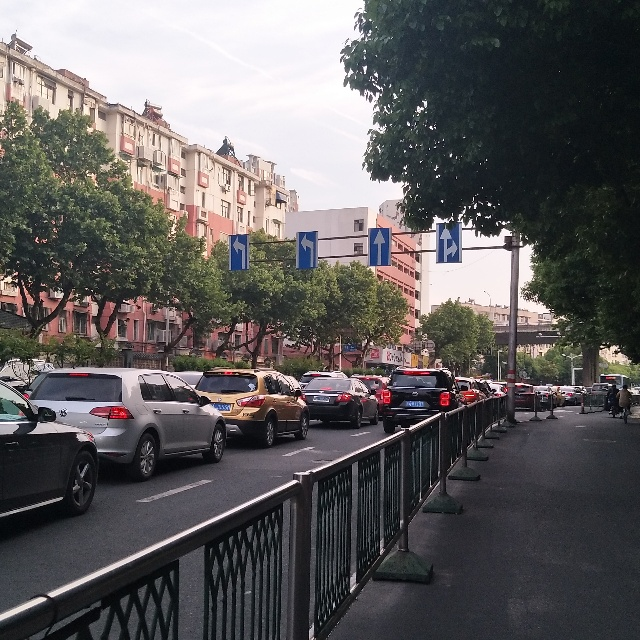left: (298, 230, 317, 272), (231, 233, 251, 271)
straight: (365, 227, 395, 268)
